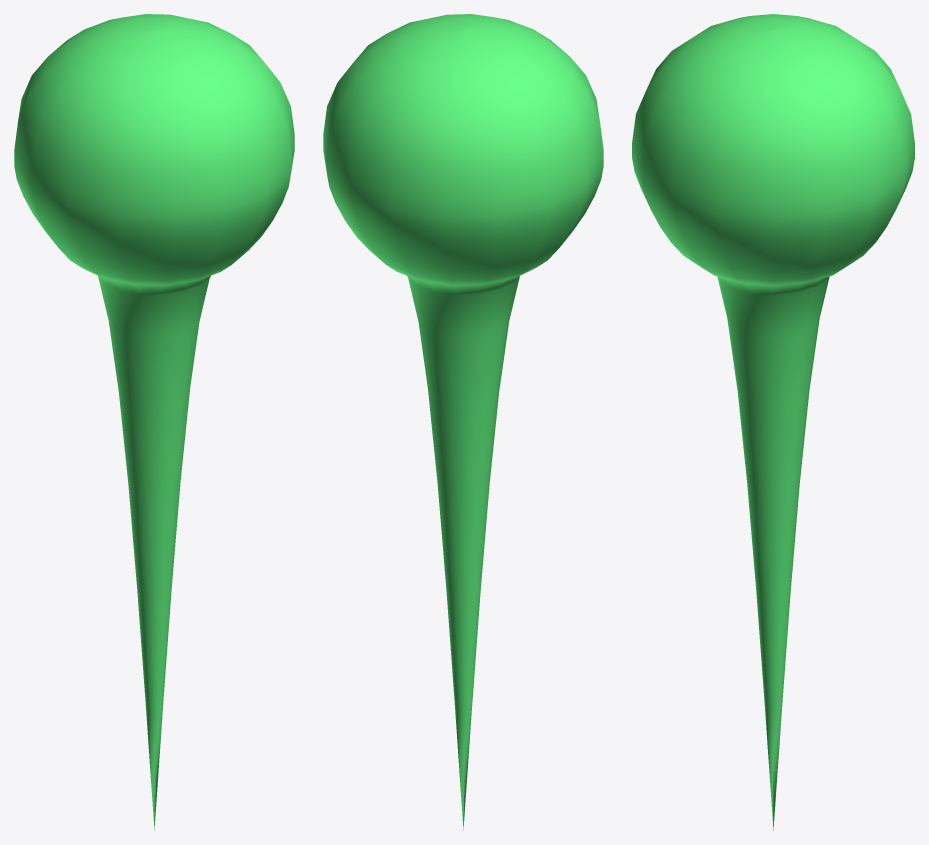
File: thumbtack_green.obj
The picture shows the model from 3 angles, left to right: view 1: azimuth 30°, elevation 25°; view 2: azimuth 150°, elevation 25°; view 3: azimuth 270°, elevation 25°; orthographic projection.
Parts seen in each view (by area): view 1: Line004; view 2: Line004; view 3: Line004.
Boxes of the visible parts, x1,y1,x2,y2 form: Line004: [14, 14, 294, 830]; Line004: [323, 14, 603, 830]; Line004: [632, 14, 914, 830].
Bounding box in the file's own units: 80 × 250 × 80.
